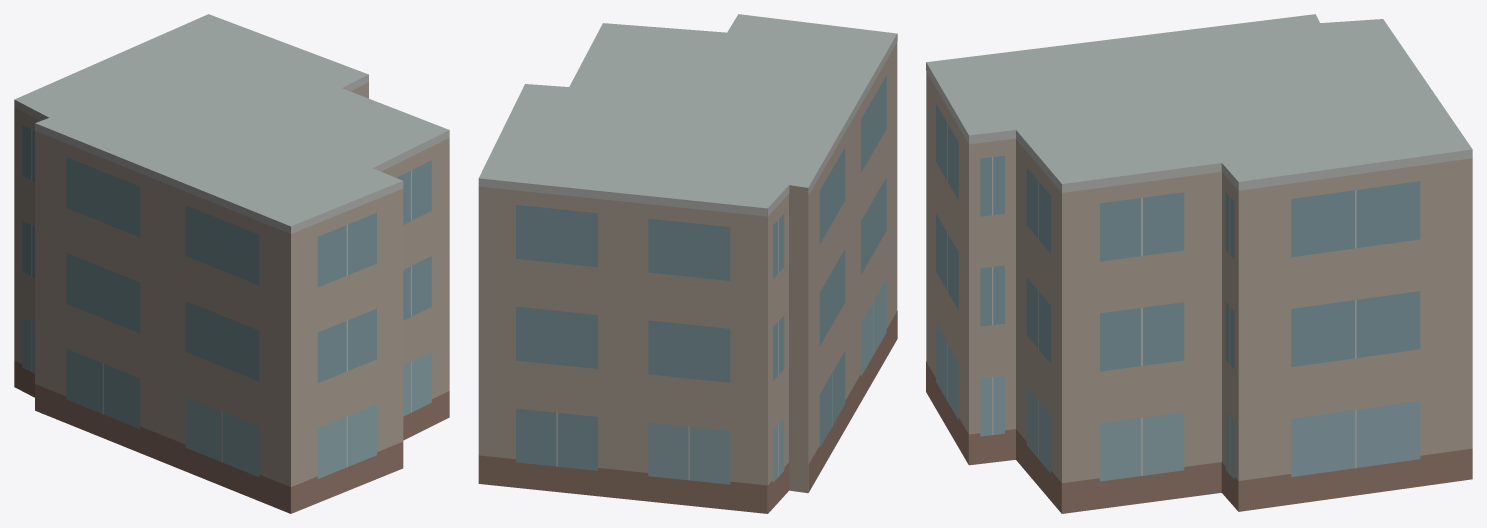
Rendered from survey-upis-32673035.glb.
3 renders of one model, left to right at view 1: azimuth 30°, elevation 25°; view 2: azimuth 150°, elevation 25°; view 3: azimuth 270°, elevation 25°, orthographic. The views are drawn at different scales.
Parts seen in each view (by area): view 1: survey-upis-32673035.tmp; view 2: survey-upis-32673035.tmp; view 3: survey-upis-32673035.tmp.
Boxes of the visible parts, x1=… form: survey-upis-32673035.tmp: x1=14, y1=14, x2=449, y2=513; survey-upis-32673035.tmp: x1=478, y1=14, x2=897, y2=513; survey-upis-32673035.tmp: x1=926, y1=14, x2=1472, y2=513.
Bounding box in the file's own units: 10.13 × 9.15 × 13.76.
